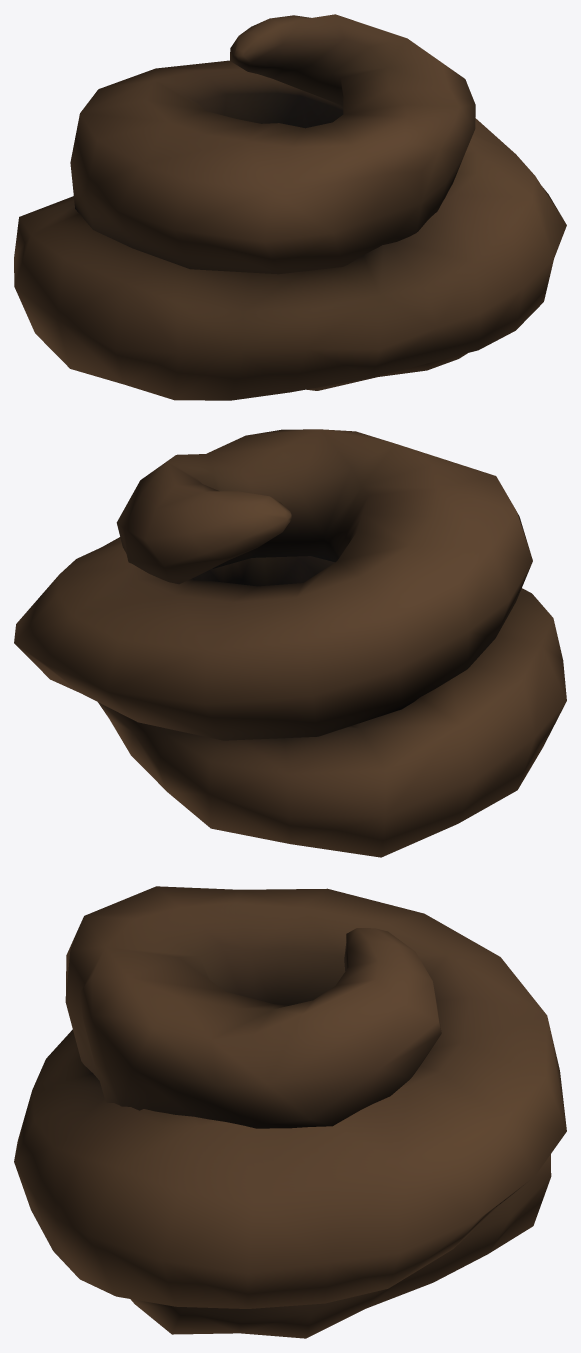
The model's file is animals-animalparts-turd_v1.fbx.
The picture shows the model from 3 angles, top to bottom: view 1: azimuth 30°, elevation 25°; view 2: azimuth 150°, elevation 25°; view 3: azimuth 270°, elevation 25°; orthographic projection. The views are drawn at different scales.
Parts seen in each view (by area): view 1: Turd.001; view 2: Turd.001; view 3: Turd.001.
Boxes of the visible parts, x1,y1,x2,y2 form: Turd.001: (14, 14, 566, 400); Turd.001: (14, 429, 566, 857); Turd.001: (14, 886, 566, 1338).
Bounding box in the file's own units: 0.544 × 0.3159 × 0.4767.
